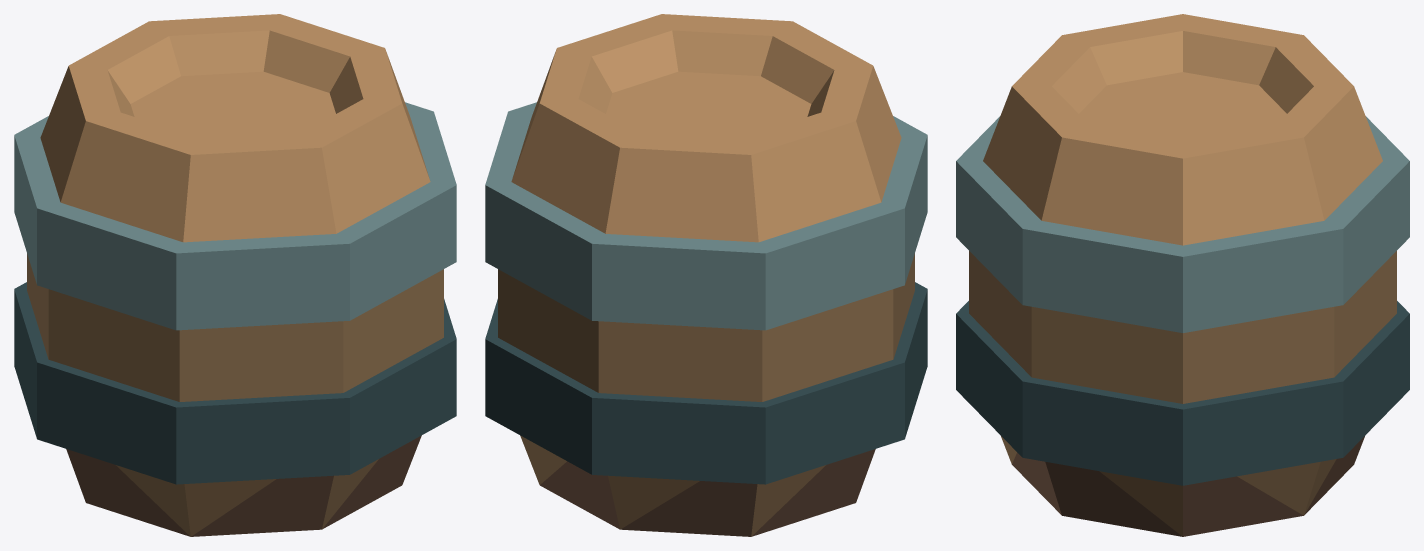
Rendered from BarrilKenney.fbx.
The picture shows the model from 3 angles, left to right: view 1: azimuth 30°, elevation 25°; view 2: azimuth 150°, elevation 25°; view 3: azimuth 270°, elevation 25°; orthographic projection.
Parts seen in each view (by area): view 1: Surf_WeatheredWood.001, Surf_BandSteel, Surf_BandDark, Surf_WeatheredMid.001, Surf_WeatheredDark.001; view 2: Surf_WeatheredWood.001, Surf_BandSteel, Surf_BandDark, Surf_WeatheredMid.001, Surf_WeatheredDark.001; view 3: Surf_WeatheredWood.001, Surf_BandSteel, Surf_BandDark, Surf_WeatheredMid.001, Surf_WeatheredDark.001.
Part boxes in pixels (bbox=[...]): Surf_WeatheredWood.001: bbox=[40, 14, 430, 242]; Surf_BandSteel: bbox=[14, 102, 456, 330]; Surf_BandDark: bbox=[14, 282, 456, 484]; Surf_WeatheredMid.001: bbox=[27, 253, 443, 536]; Surf_WeatheredDark.001: bbox=[66, 435, 421, 536]; Surf_WeatheredWood.001: bbox=[511, 14, 901, 242]; Surf_BandSteel: bbox=[485, 102, 927, 330]; Surf_BandDark: bbox=[485, 282, 927, 484]; Surf_WeatheredMid.001: bbox=[498, 253, 914, 536]; Surf_WeatheredDark.001: bbox=[540, 449, 875, 536]; Surf_WeatheredWood.001: bbox=[983, 14, 1382, 245]; Surf_BandSteel: bbox=[956, 116, 1409, 332]; Surf_BandDark: bbox=[956, 301, 1409, 485]; Surf_WeatheredMid.001: bbox=[969, 251, 1396, 536]; Surf_WeatheredDark.001: bbox=[1012, 436, 1364, 536].
Size of the model in its own units: 1.34 by 1.23 by 1.34.
